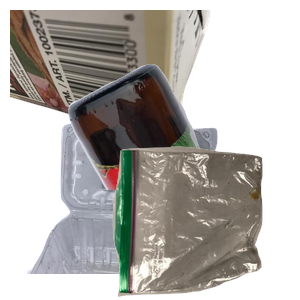cardboard: (10, 10, 213, 146)
glass: (66, 61, 300, 241)
plastic: (25, 120, 245, 300)
trash: (110, 144, 300, 300)
